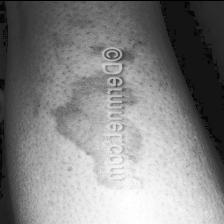Unclassified: (57, 36, 106, 203), (124, 47, 158, 200)
